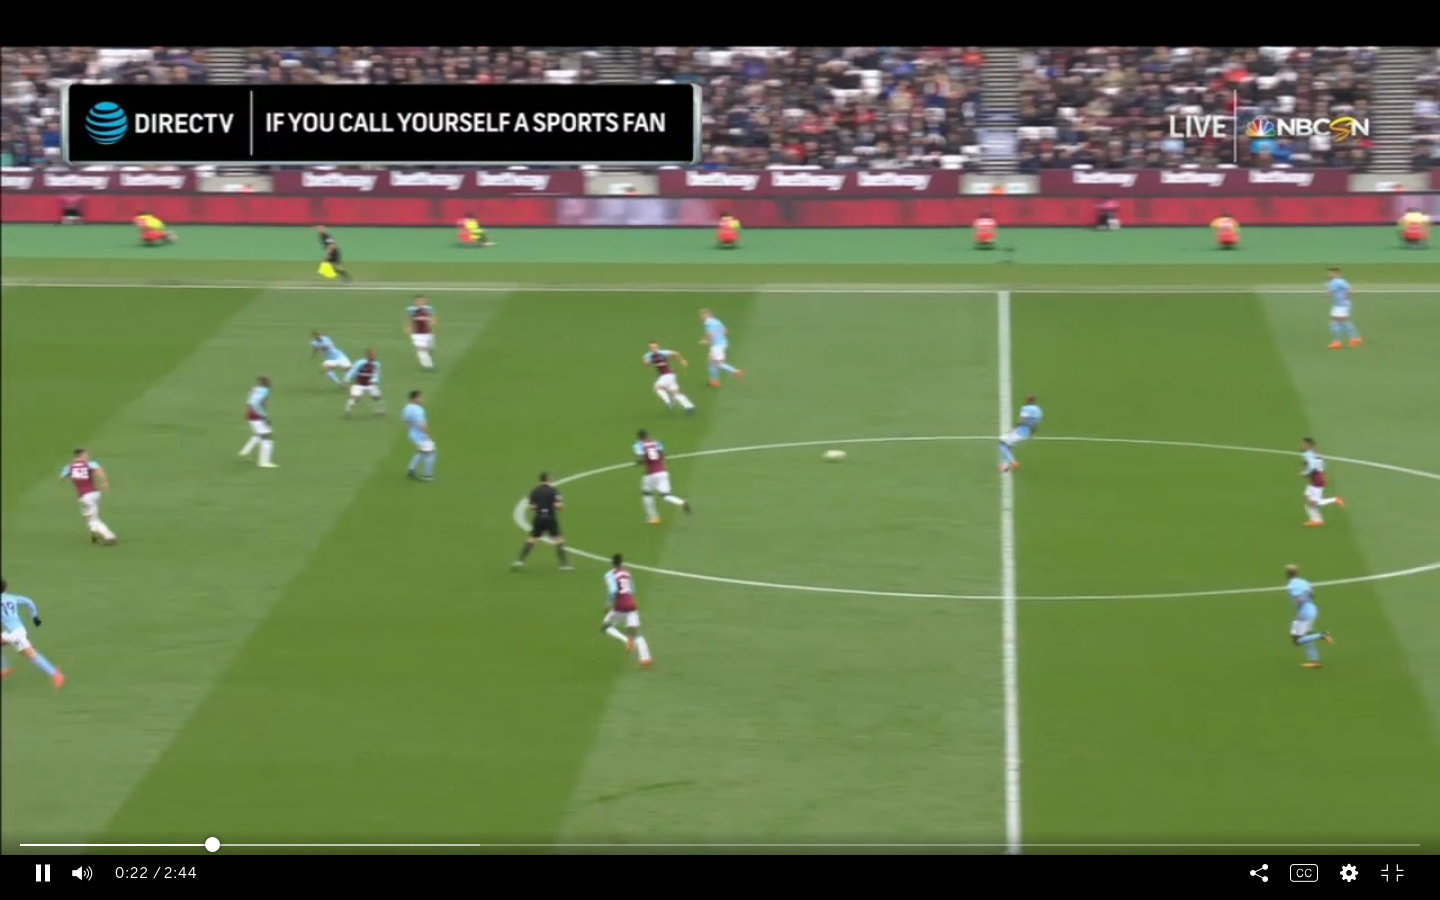referee: (508, 469, 579, 574)
soccer player: (1273, 556, 1347, 679), (1282, 425, 1355, 543), (624, 423, 696, 540), (1, 574, 65, 693), (61, 445, 119, 551), (599, 551, 652, 665), (693, 297, 752, 394), (992, 392, 1048, 483), (635, 339, 701, 416), (1318, 259, 1368, 354), (399, 391, 448, 486), (235, 368, 279, 472), (399, 291, 445, 379), (344, 348, 388, 426), (305, 326, 353, 392)
soccerball: (816, 439, 852, 472)
